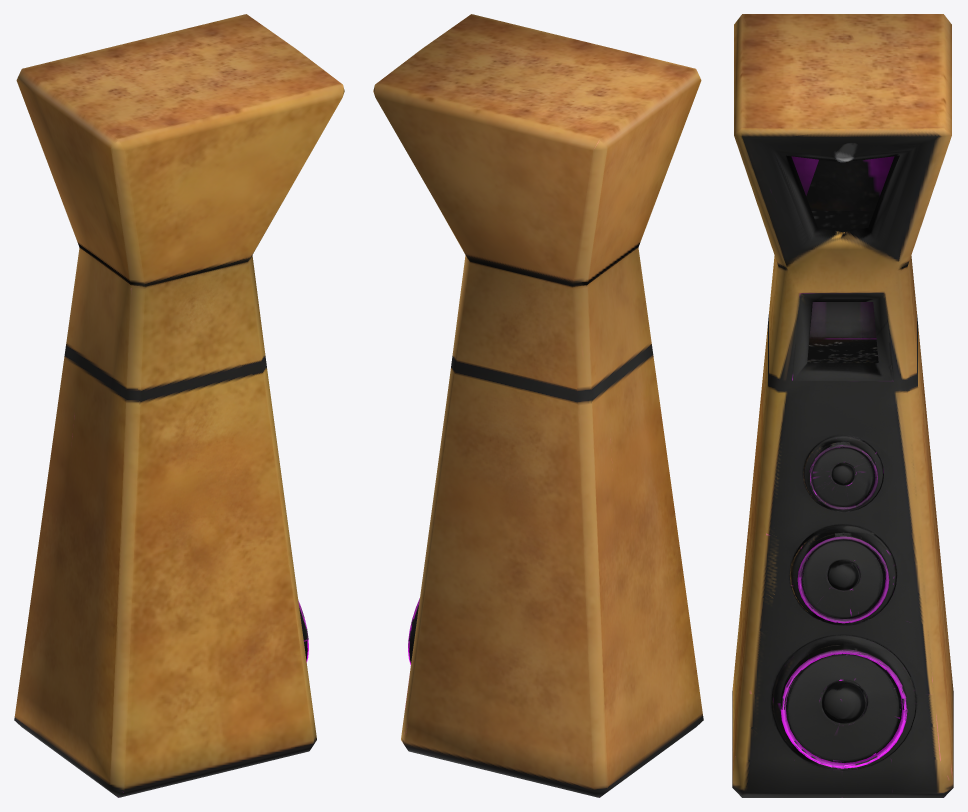
The model's file is SpeakerTallPurple.glb.
3 views of the same model, side by side, from view 1: azimuth 30°, elevation 25°; view 2: azimuth 150°, elevation 25°; view 3: azimuth 270°, elevation 25° (orthographic). The views are drawn at different scales.
Visible parts, largest first — view 1: 2-speaker-StudioPro-LP-purple; view 2: 2-speaker-StudioPro-LP-purple; view 3: 2-speaker-StudioPro-LP-purple.
Boxes of the visible parts, left/top/right/bottom form: 2-speaker-StudioPro-LP-purple: left=14, top=14, right=344, bottom=797; 2-speaker-StudioPro-LP-purple: left=373, top=14, right=703, bottom=797; 2-speaker-StudioPro-LP-purple: left=732, top=14, right=953, bottom=797.
Bounding box in the file's own units: 0.7488 × 2 × 0.5838.
1 material, 1 textured.
